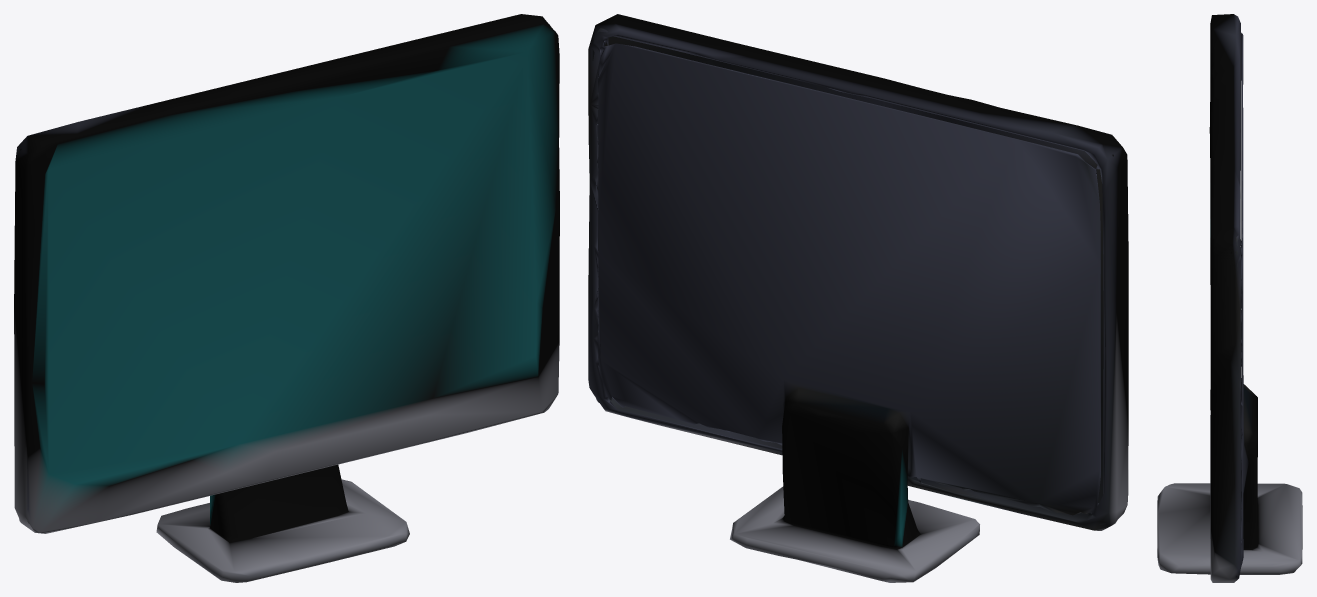
The model's file is gen3d-computer-monitor-lod1.glb.
3 renders of one model, left to right at view 1: azimuth 30°, elevation 25°; view 2: azimuth 150°, elevation 25°; view 3: azimuth 270°, elevation 25°, orthographic. The views are drawn at different scales.
Visible parts, largest first — view 1: part_0; view 2: part_0; view 3: part_0.
Part boxes in pixels (x1,y1,x2,y2): part_0: (14, 14, 559, 582); part_0: (588, 14, 1128, 582); part_0: (1157, 14, 1302, 582).
Bounding box in the file's own units: 1.21 × 0.9967 × 0.3191.
